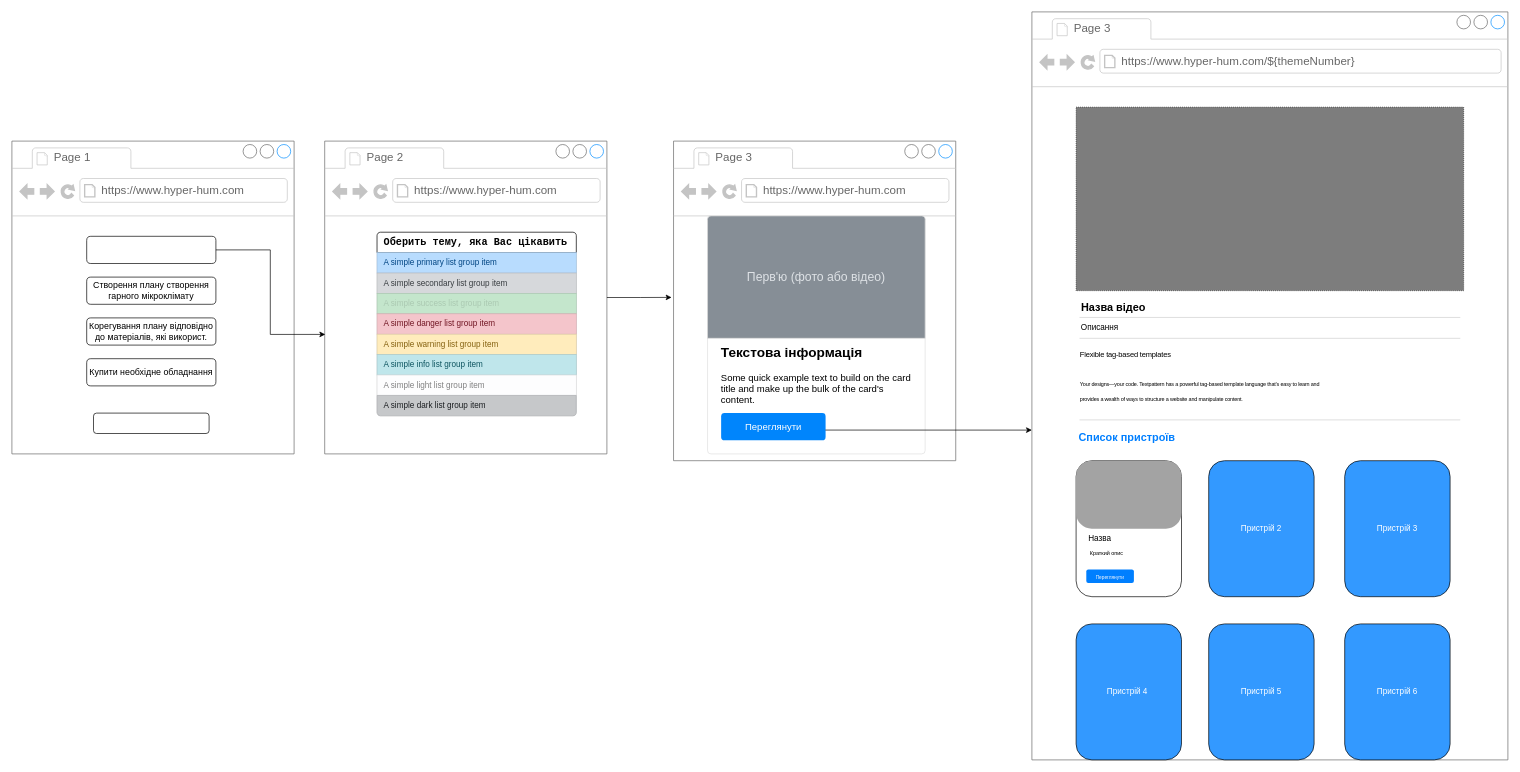
Some shapes in this 1520 by 772 pixel diagram are drawn without their labels. The centre of each missing label's shape, as x and y in pixels:
Авторизація / реєстрація: the point at 151,423
Вивчення інформації про вологість: the point at 151,250
Відео: the point at 1269,198
Фото: the point at 1128,494
